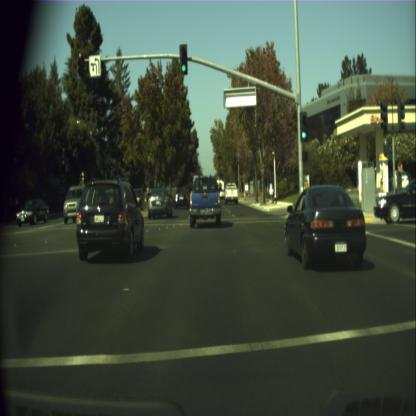Green: (179, 44, 187, 74), (300, 112, 308, 140)
RedLeft: (76, 47, 84, 78)
